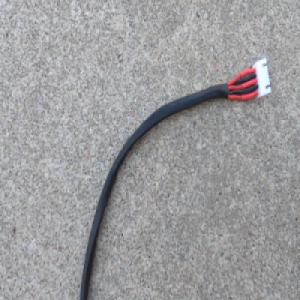Wire: (79, 56, 272, 300)
